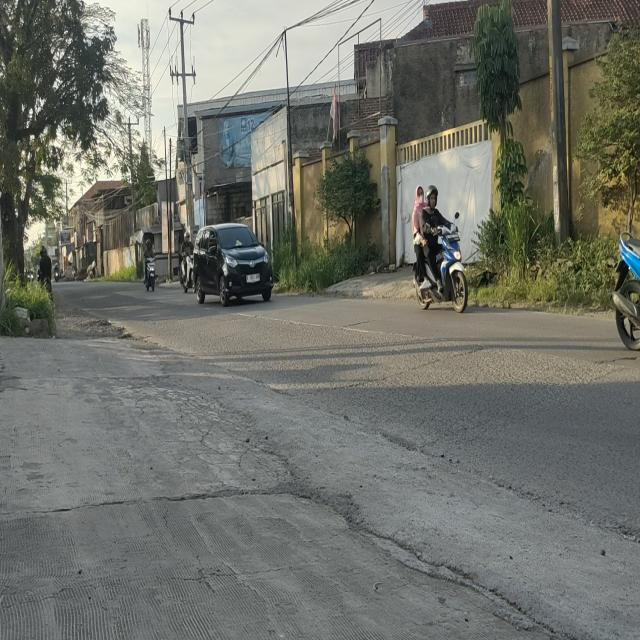helmet: (425, 185, 438, 210)
no-helmet: (414, 186, 424, 208)
